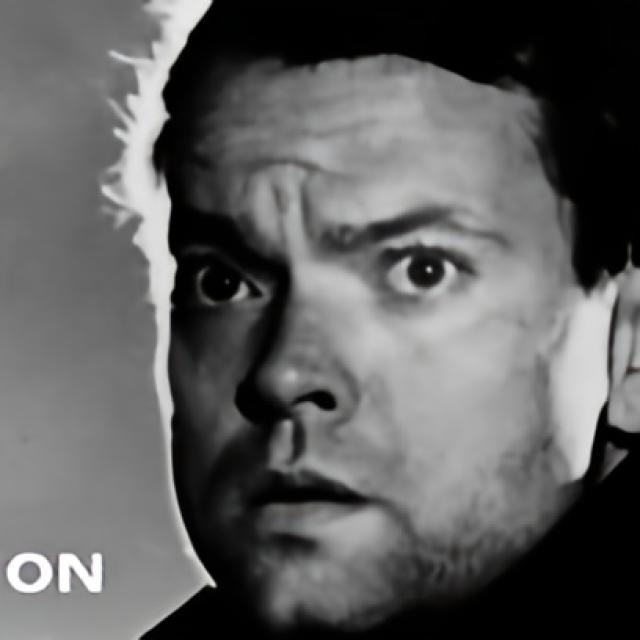fear: (158, 39, 588, 638)
